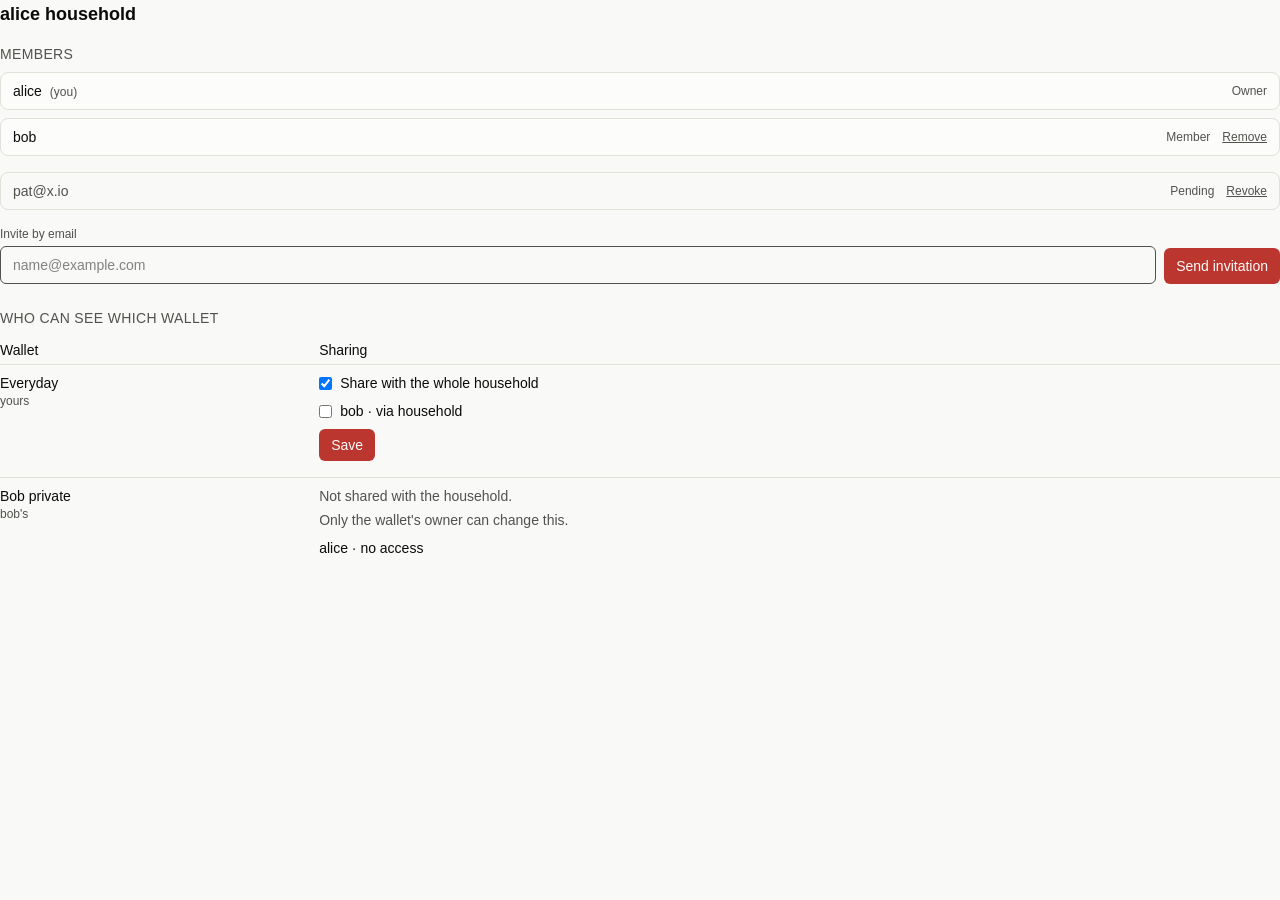
Test: HouseholdSection as the owner › focuses the confirm button on open, closes on Escape without acting, and restores focus
Click the button with aria-label "Remove bob from the household" at (1245,137), box 1222,129 -> 1267,145
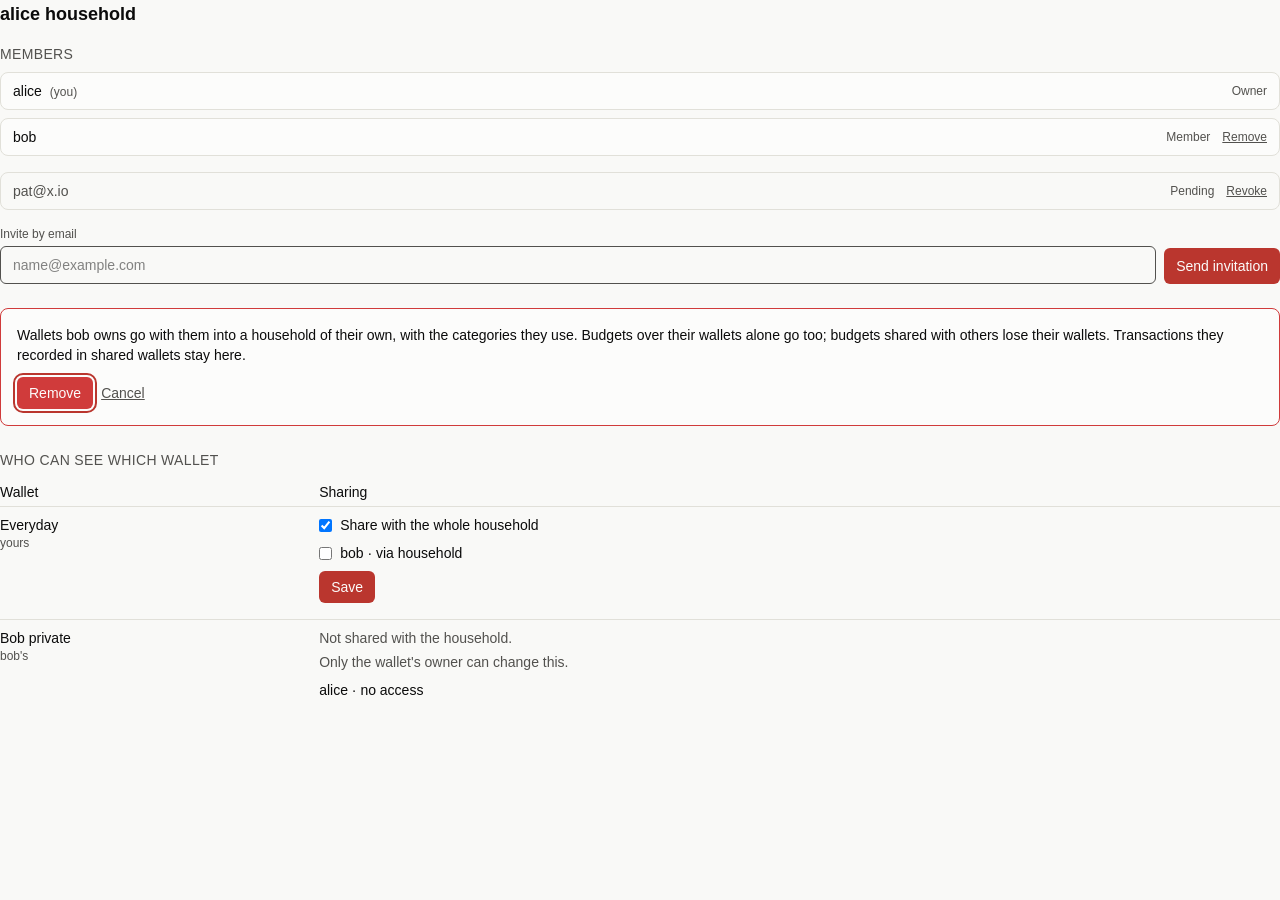
Press Escape
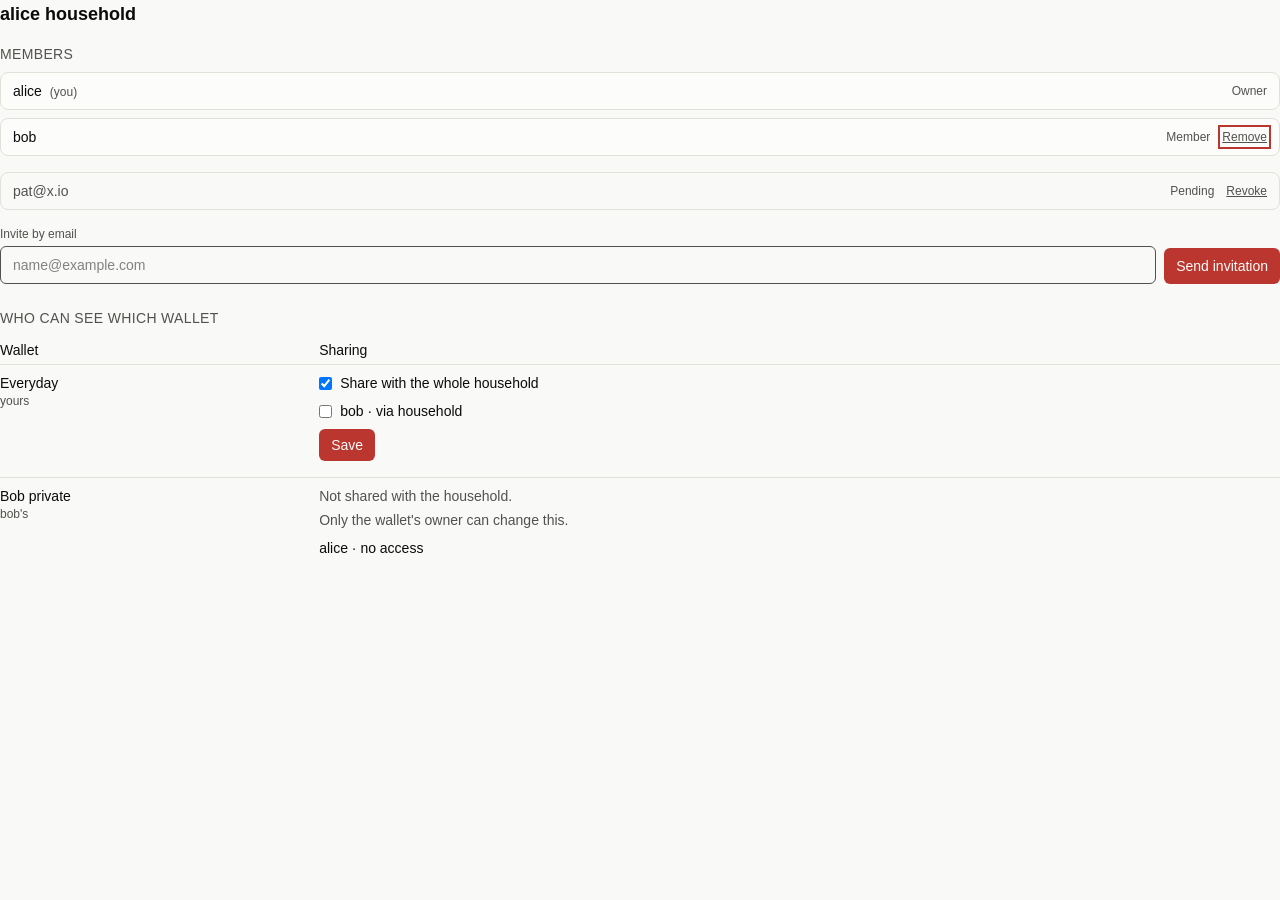
Now the dialog is gone
